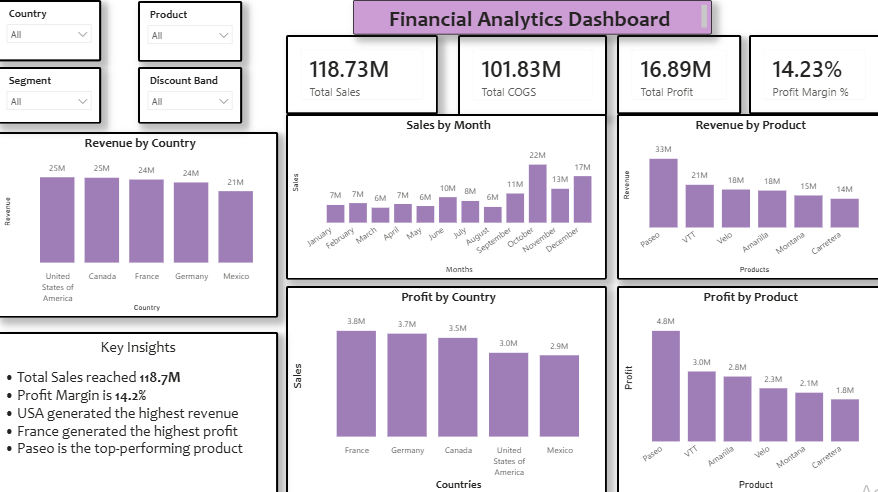

Layout of this report page (visuals, bound fields, positions):
{"tool":"powerbi","page":{"name":"Page 2","canvas":[1280,720],"ordinal":0},"visuals":[{"type":"cardVisual","fields":{"Data":["Sum(financials. Sales)"]},"box":[419,50.4,220.3,115.2],"z":0},{"type":"cardVisual","fields":{"Data":["Sum(financials.Profit)"]},"box":[898.6,50.4,180,115.2],"z":1000},{"type":"cardVisual","fields":{"Data":["Sum(financials.COGS)"]},"box":[668.2,50.4,216,116.6],"z":2000},{"type":"cardVisual","fields":{"Data":["financials.Profit Margin %"]},"box":[1090.1,50.4,190.1,115.2],"z":3000},{"type":"clusteredColumnChart","title":"Revenue by Country","fields":{"Category":["financials.Country"],"Y":["Sum(financials.Sales)"]},"box":[1.4,191.5,406.1,269.3],"z":4000},{"type":"clusteredColumnChart","title":"Sales by Month","fields":{"Y":["Sum(financials.Sales)"],"Category":["financials.Month Name"]},"box":[419,165.6,465.1,240.5],"z":5000},{"type":"clusteredColumnChart","title":"Profit by Country","fields":{"Category":["financials.Country"],"Y":["Sum(financials.Profit)"]},"box":[419,414.7,465.1,305.3],"z":6000},{"type":"clusteredColumnChart","title":"Revenue by Product","fields":{"Category":["financials.Product"],"Y":["Sum(financials.Sales)"]},"box":[898.6,165.6,381.6,240.5],"z":7000},{"type":"clusteredColumnChart","fields":{"Category":["financials.Product"],"Y":["Sum(financials.Profit)"]},"box":[898.6,414.7,381.6,305.3],"z":8000},{"type":"slicer","fields":{"Values":["financials.Country"]},"box":[0,0,151.2,89.3],"z":9000},{"type":"slicer","fields":{"Values":["financials.Product"]},"box":[204.5,1.4,151.2,87.8],"z":10000},{"type":"slicer","fields":{"Values":["financials.Segment"]},"box":[0,96.5,151.2,82.1],"z":11000},{"type":"slicer","fields":{"Values":["financials.Discount Band"]},"box":[204.5,96.5,151.2,82.1],"z":12000},{"type":"textbox","box":[1.4,481,406.1,239],"z":13000},{"type":"textbox","box":[515.5,0,519.8,50.4],"z":14000}]}

Visuals, with their boxes in screenshot pixels (x1, y1, x2, y2), scaled from the page's 1280x720 canvas onto the 878x492 screenshot:
cardVisual - Sum(financials. Sales): [x1=287, y1=34, x2=439, y2=113]
cardVisual - Sum(financials.Profit): [x1=616, y1=34, x2=740, y2=113]
cardVisual - Sum(financials.COGS): [x1=458, y1=34, x2=607, y2=114]
cardVisual - financials.Profit Margin %: [x1=748, y1=34, x2=877, y2=113]
"Revenue by Country" clusteredColumnChart: [x1=1, y1=131, x2=280, y2=315]
"Sales by Month" clusteredColumnChart: [x1=287, y1=113, x2=606, y2=278]
"Profit by Country" clusteredColumnChart: [x1=287, y1=283, x2=606, y2=491]
"Revenue by Product" clusteredColumnChart: [x1=616, y1=113, x2=877, y2=278]
clusteredColumnChart - financials.Product x Sum(financials.Profit): [x1=616, y1=283, x2=877, y2=491]
slicer - financials.Country: [x1=0, y1=0, x2=104, y2=61]
slicer - financials.Product: [x1=140, y1=1, x2=244, y2=61]
slicer - financials.Segment: [x1=0, y1=66, x2=104, y2=122]
slicer - financials.Discount Band: [x1=140, y1=66, x2=244, y2=122]
textbox: [x1=1, y1=329, x2=280, y2=491]
textbox: [x1=354, y1=0, x2=710, y2=34]
